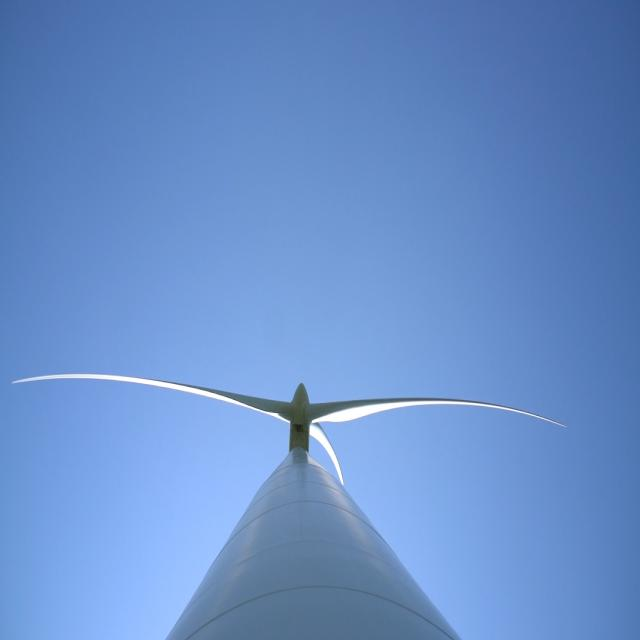blade 1: (310, 425, 334, 460)
blade 2: (6, 354, 278, 414)
blade 3: (334, 374, 602, 434)
